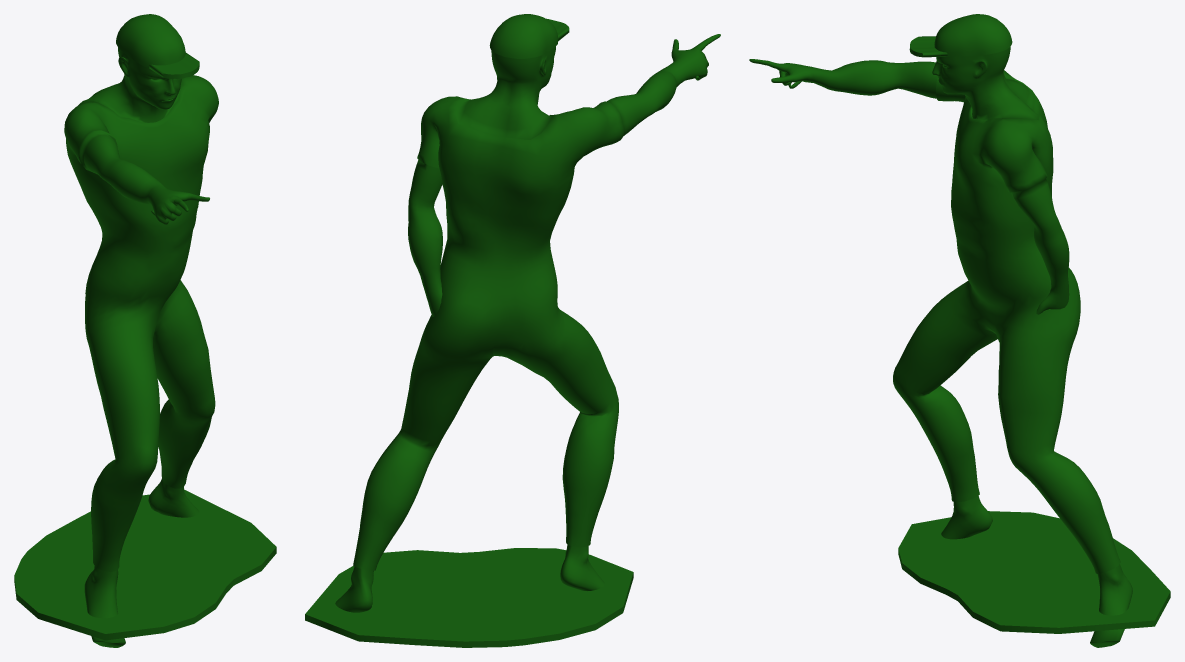
File: Soldado3.fbx
3 views of the same model, side by side, from view 1: azimuth 30°, elevation 25°; view 2: azimuth 150°, elevation 25°; view 3: azimuth 270°, elevation 25° (orthographic). The views are drawn at different scales.
Parts seen in each view (by area): view 1: OldMan_low.001, Cube.001; view 2: OldMan_low.001, Cube.001; view 3: OldMan_low.001, Cube.001.
Boxes of the visible parts, bbox=[...] form: OldMan_low.001: bbox=[64, 14, 218, 647]; Cube.001: bbox=[14, 490, 276, 640]; OldMan_low.001: bbox=[335, 14, 720, 612]; Cube.001: bbox=[305, 548, 633, 647]; OldMan_low.001: bbox=[749, 14, 1132, 647]; Cube.001: bbox=[898, 511, 1170, 633].
Bounding box in the file's own units: 72.21 × 165 × 110.
